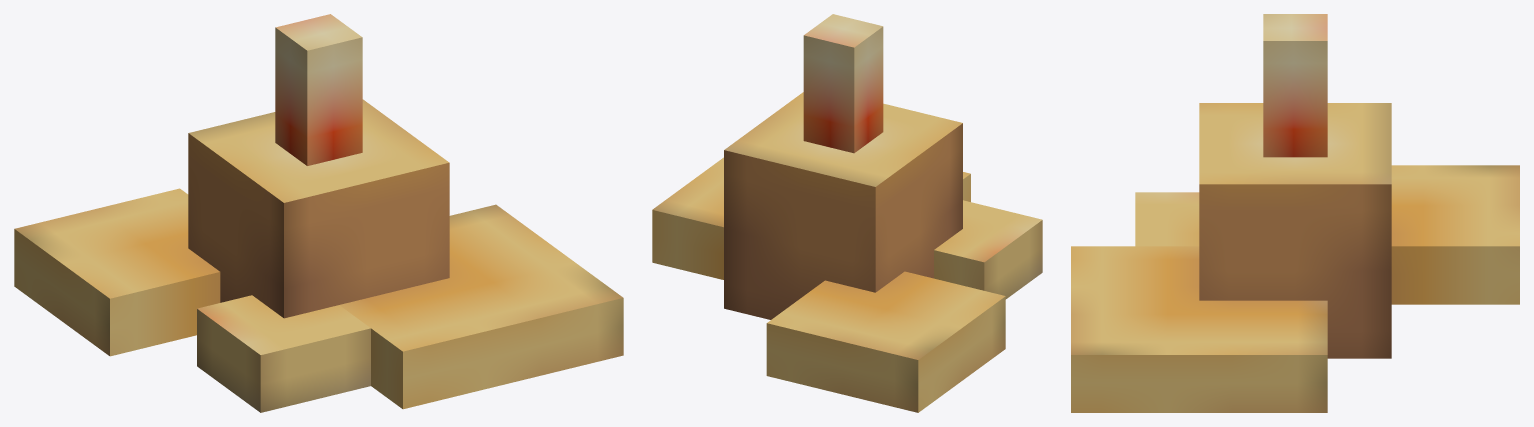
File: candle_arrangement_07_lit.fbx
3 views of the same model, side by side, from view 1: azimuth 30°, elevation 25°; view 2: azimuth 150°, elevation 25°; view 3: azimuth 270°, elevation 25° (orthographic). The views are drawn at different scales.
Parts seen in each view (by area): view 1: candle_arrangement_07_lit; view 2: candle_arrangement_07_lit; view 3: candle_arrangement_07_lit.
Part boxes in pixels (x1=…): candle_arrangement_07_lit: x1=14, y1=14, x2=623, y2=412; candle_arrangement_07_lit: x1=652, y1=14, x2=1042, y2=412; candle_arrangement_07_lit: x1=1071, y1=14, x2=1519, y2=412.
Bounding box in the file's own units: 7 × 5 × 7.
